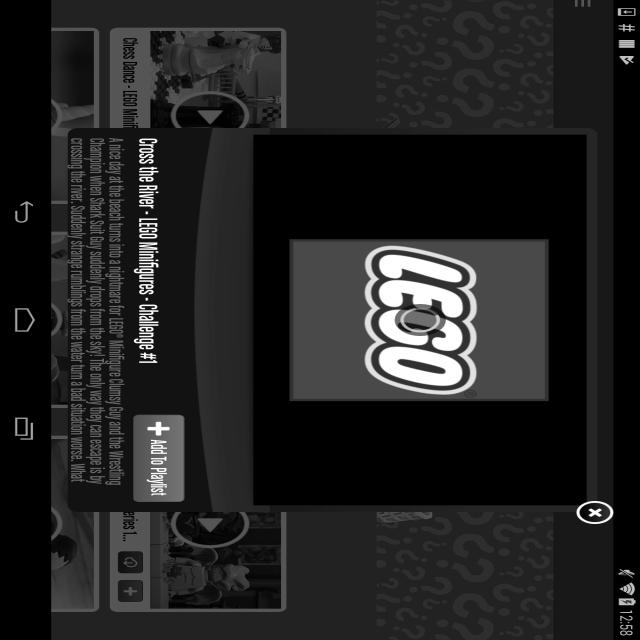ImageView: (215, 33, 640, 242), (205, 231, 640, 285), (215, 232, 640, 249)
ProgressBar: (215, 33, 640, 242), (487, 122, 538, 154)
TextView: (221, 320, 640, 358), (221, 298, 640, 316)
